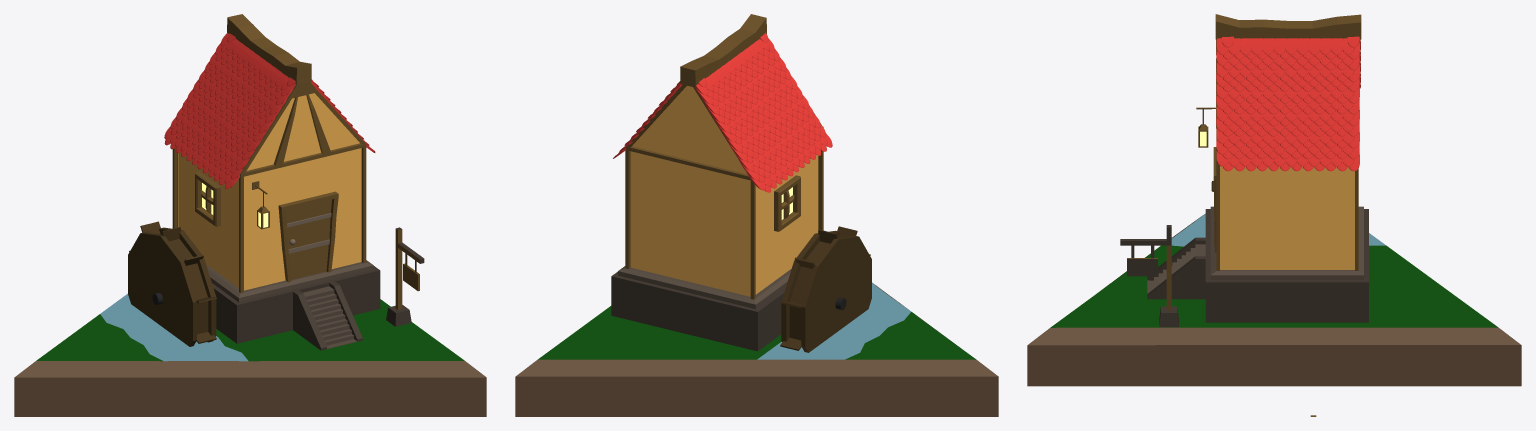
File: mlyn.fbx
The picture shows the model from 3 angles, left to right: view 1: azimuth 30°, elevation 25°; view 2: azimuth 150°, elevation 25°; view 3: azimuth 270°, elevation 25°; orthographic projection. The views are drawn at different scales.
Visible parts, largest first — view 1: Circle, Cube, Circle.100, Icosphere, Cube.002, Cube.003, Cube.001; view 2: Circle, Cube, Circle.100, Icosphere, Cube.003; view 3: Circle, Cube, Circle.100, Cube.003, Cube.001.
Part boxes in pixels (left/top/right/bottom): Circle: left=14, top=293, right=486, bottom=416; Cube: left=172, top=82, right=380, bottom=350; Circle.100: left=164, top=32, right=375, bottom=189; Icosphere: left=128, top=221, right=216, bottom=346; Cube.002: left=278, top=191, right=338, bottom=282; Cube.003: left=227, top=14, right=311, bottom=84; Cube.001: left=386, top=227, right=424, bottom=326; Circle: left=515, top=282, right=998, bottom=416; Cube: left=611, top=84, right=823, bottom=351; Circle.100: left=613, top=19, right=832, bottom=192; Icosphere: left=780, top=226, right=871, bottom=352; Cube.003: left=680, top=14, right=766, bottom=87; Circle: left=1027, top=213, right=1521, bottom=386; Cube: left=1147, top=39, right=1368, bottom=416; Circle.100: left=1216, top=22, right=1360, bottom=171; Cube.003: left=1215, top=14, right=1361, bottom=39; Cube.001: left=1120, top=225, right=1178, bottom=327.
Bounding box in the file's own units: 4052 × 3793 × 4677.
